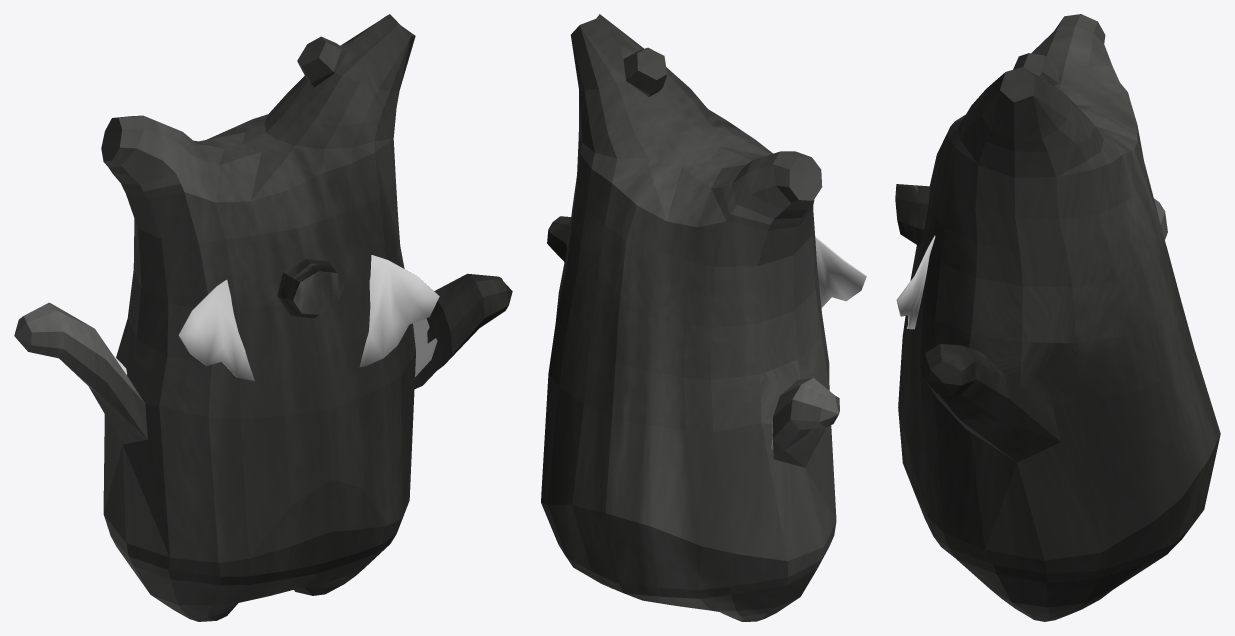
Rendered from frame_0098.obj.
The picture shows the model from 3 angles, left to right: view 1: azimuth 30°, elevation 25°; view 2: azimuth 150°, elevation 25°; view 3: azimuth 270°, elevation 25°; orthographic projection. The views are drawn at different scales.
Parts seen in each view (by area): view 1: korok, leaf, nose; view 2: korok, leaf; view 3: korok, nose, leaf.
Boxes of the visible parts, bbox=[...] form: korok: bbox=[14, 14, 512, 621]; leaf: bbox=[178, 255, 439, 380]; nose: bbox=[277, 259, 344, 317]; korok: bbox=[541, 14, 839, 621]; leaf: bbox=[815, 237, 866, 307]; korok: bbox=[898, 14, 1220, 621]; nose: bbox=[895, 184, 929, 246]; leaf: bbox=[896, 235, 935, 329].
Size of the model in its own units: 1.7 by 2.32 by 1.18.
